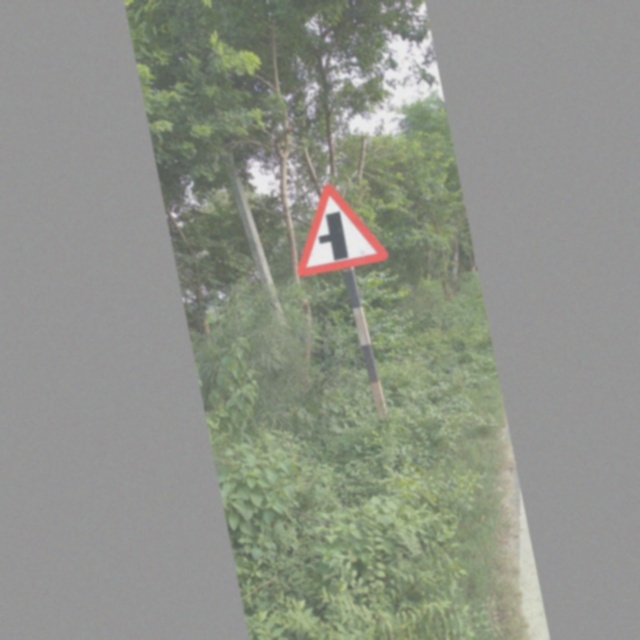Side_Road_Left: (278, 178, 384, 278)
